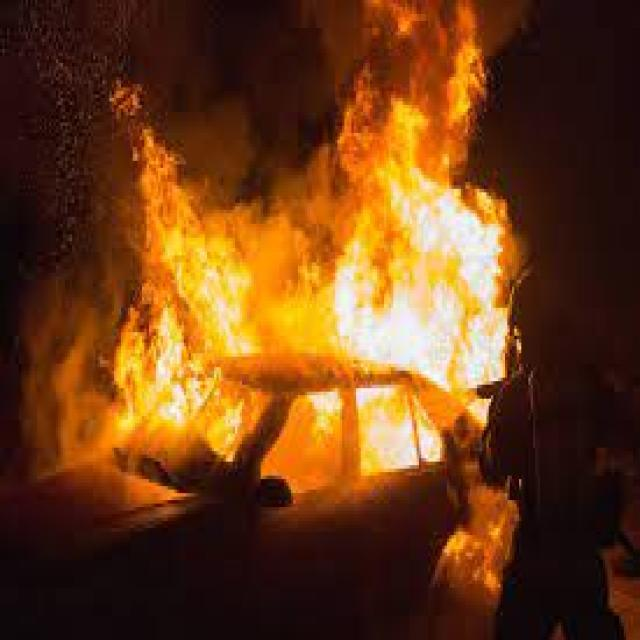fire: (100, 0, 556, 483), (449, 508, 508, 594)
